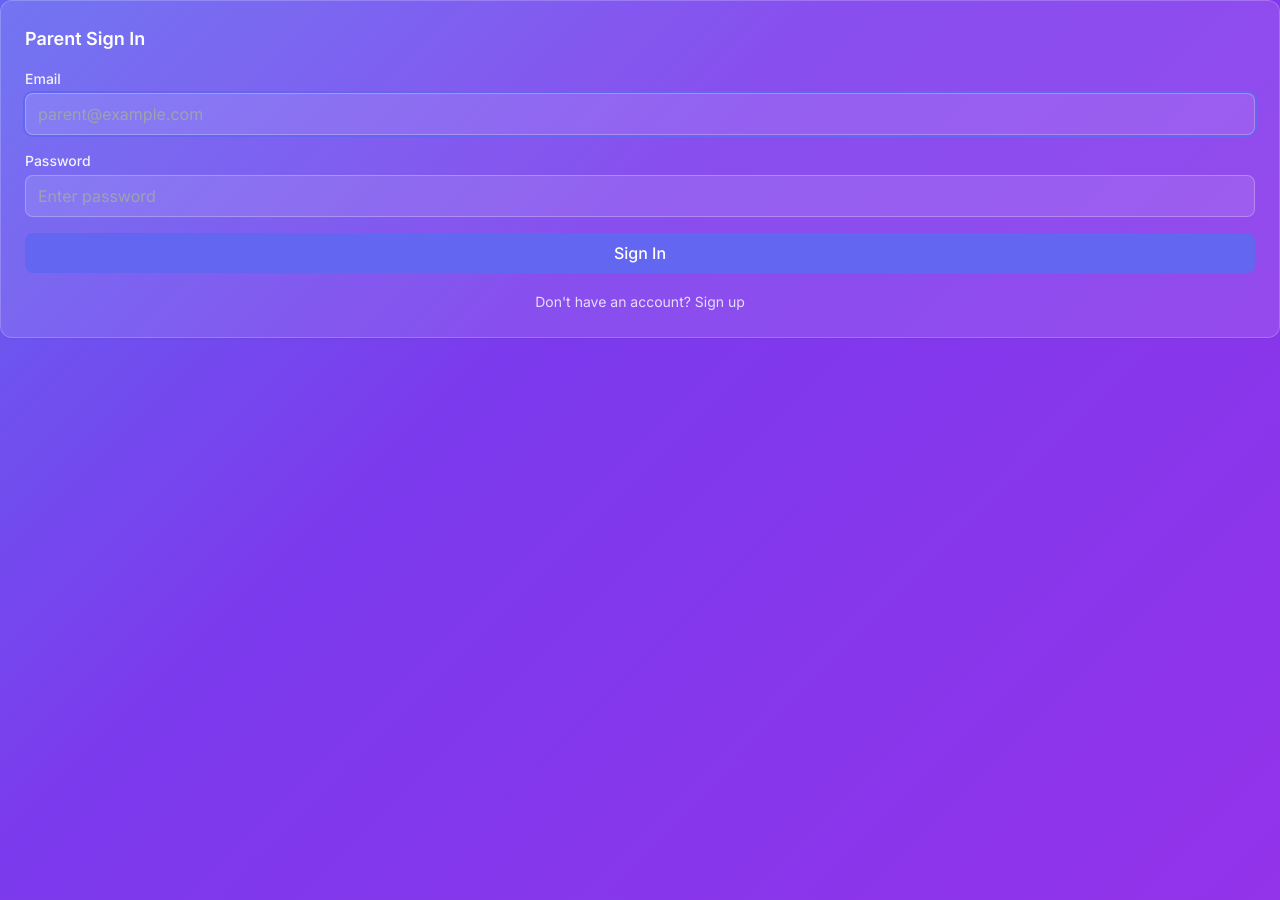
Test: AuthForm › sign in mode (default) › should show validation error for empty email
What coordinates should you click on to do the following:
click the button "Sign In"
I would click on:
 (640, 253)
Its box is top-left (25, 233), bottom-right (1255, 273).
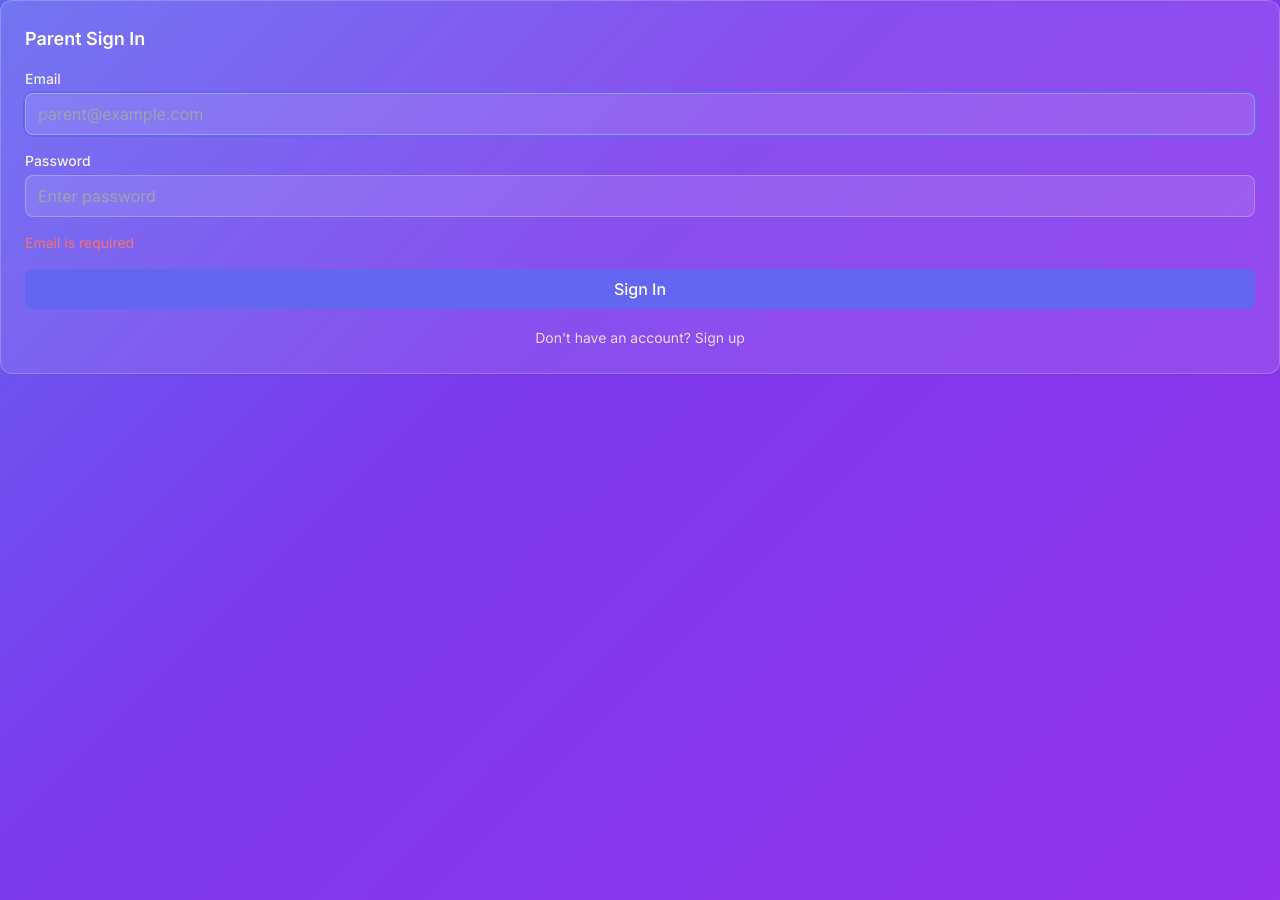
Expected: the text "Email is required" is shown, top-left (25, 234), bottom-right (134, 251)
